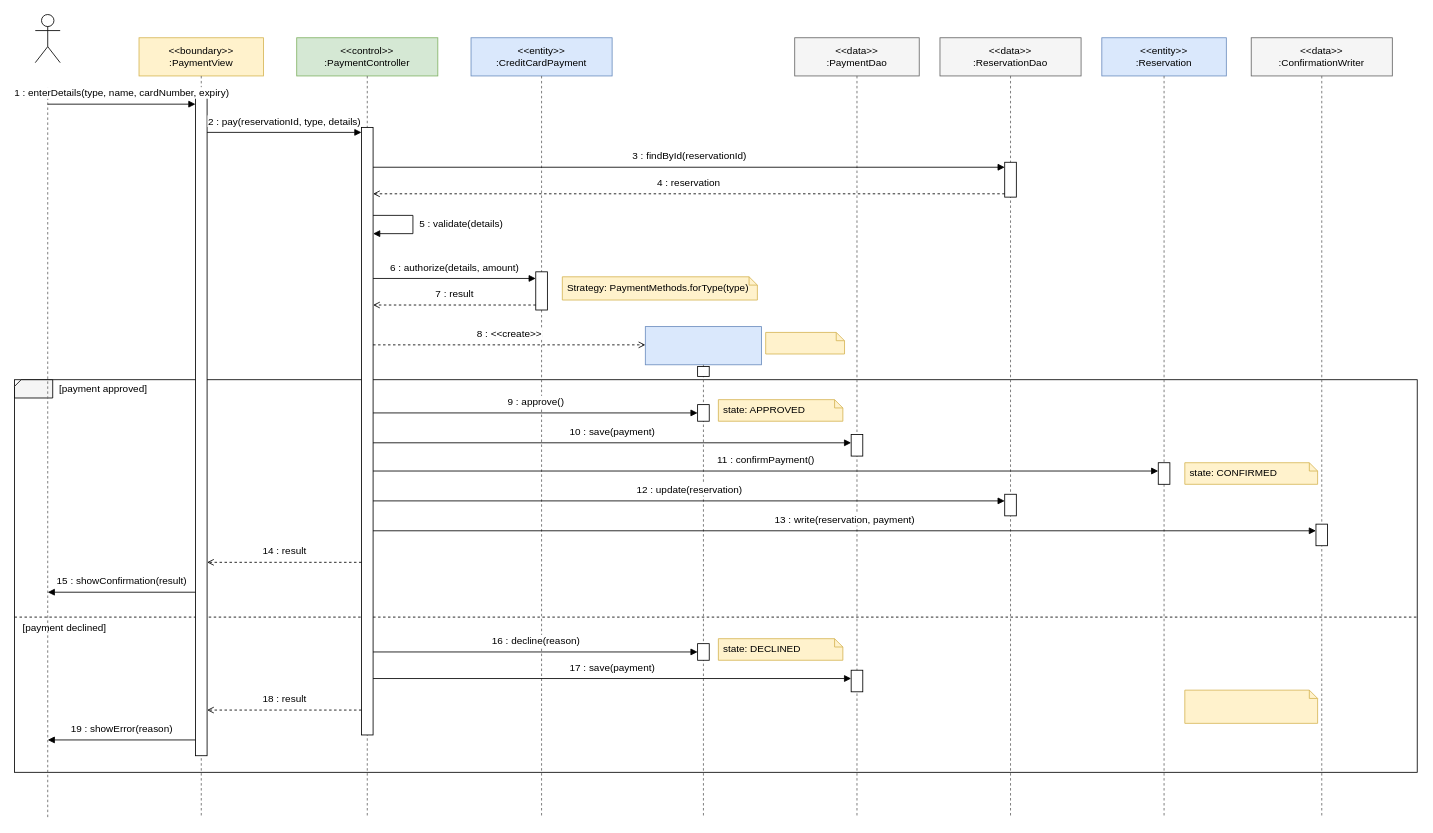
Some shapes in this 1433 by 833 pixel diagram are drawn without their labels. The shapes that lost their labels are listed below. From the top down, each one's centre as x and y in pixels, then its label:
the point at 47,38: Customer
the point at 703,345: <<entity>> :Payment
the point at 805,343: state: PENDING
the point at 33,388: alt
the point at 1251,706: state: PENDING_PAYMENT (unchanged)
